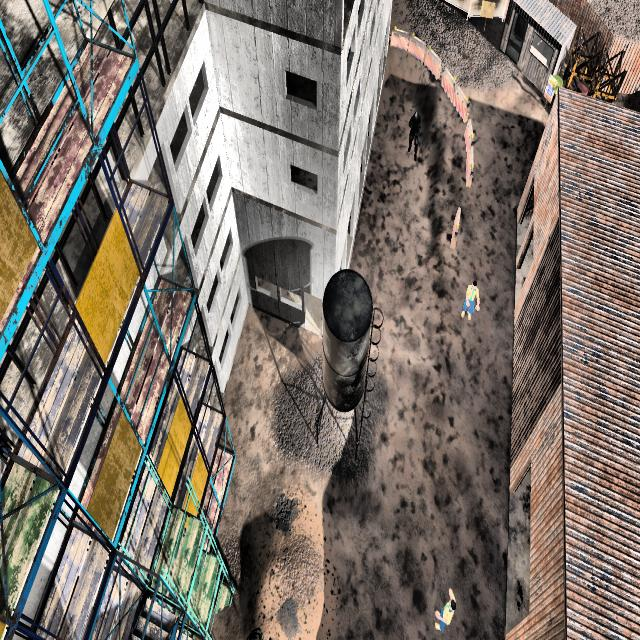bad: (406, 96, 424, 162)
good: (422, 569, 462, 640), (454, 270, 485, 334)
